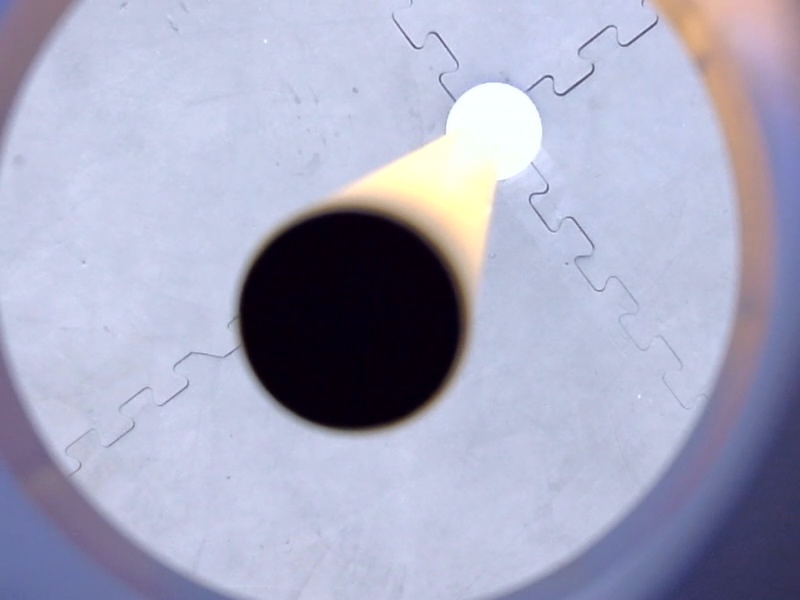tip: (227, 193, 479, 450)
